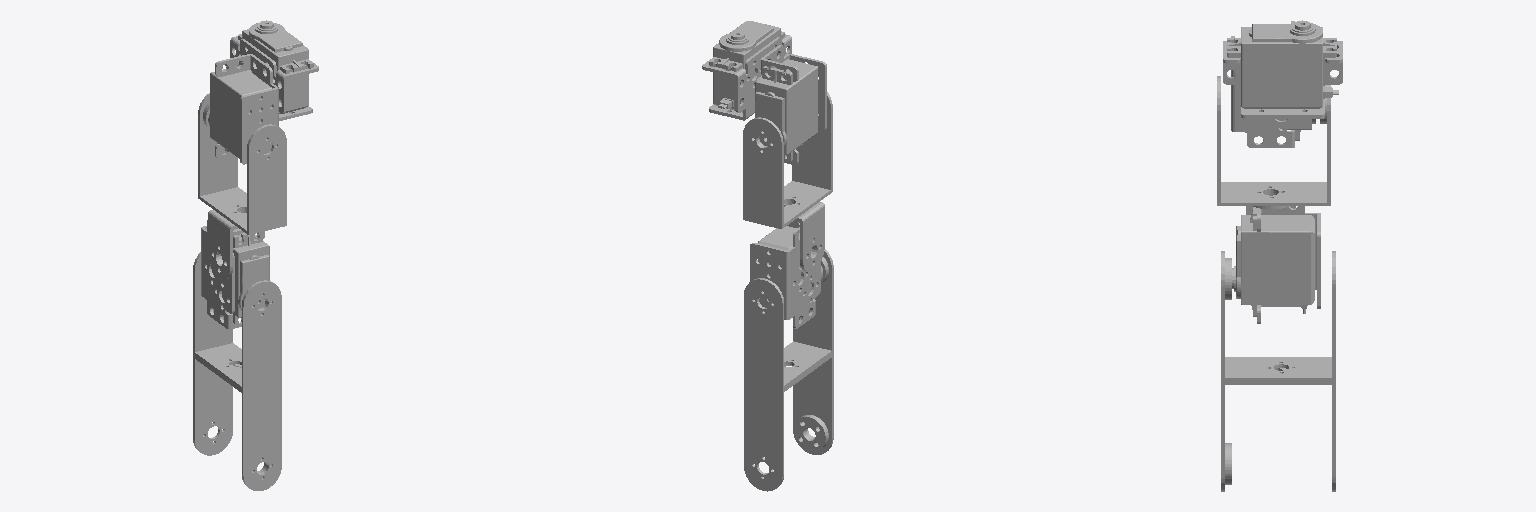
The robot description file, URDF, robot "robot_arm_urdf":
<?xml version="1.0" encoding="utf-8"?>
<!-- This URDF was automatically created by SolidWorks to URDF Exporter! Originally created by [author] ([email redacted])
     Commit Version: 1.6.0-1-g15f4949  Build Version: 1.6.7594.29634
     For more information, please see http://wiki.ros.org/sw_urdf_exporter -->
<robot
  name="robot_arm_urdf">
  <link
    name="Link_1">
    <inertial>
      <origin
        xyz="0.0061516 0.010815 0.033881"
        rpy="0 0 0" />
      <mass
        value="0.19291" />
      <inertia
        ixx="0.00013588"
        ixy="1.7547E-08"
        ixz="-4.2054E-07"
        iyy="5.5834E-05"
        iyz="9.2938E-08"
        izz="0.00013279" />
    </inertial>
    <visual>
      <origin
        xyz="0 0 0"
        rpy="0 0 0" />
      <geometry>
        <mesh
          filename="package://robot_arm_urdf/meshes/Link_1.STL" />
      </geometry>
      <material
        name="">
        <color
          rgba="0.75294 0.75294 0.75294 1" />
      </material>
    </visual>
    <collision>
      <origin
        xyz="0 0 0"
        rpy="0 0 0" />
      <geometry>
        <mesh
          filename="package://robot_arm_urdf/meshes/Link_1.STL" />
      </geometry>
    </collision>
  </link>
  <link
    name="Link_2">
    <inertial>
      <origin
        xyz="-0.010273 -0.0041237 0.072714"
        rpy="0 0 0" />
      <mass
        value="0.069594" />
      <inertia
        ixx="2.3218E-05"
        ixy="8.488E-08"
        ixz="-1.2149E-08"
        iyy="3.3557E-05"
        iyz="-4.236E-07"
        izz="2.5179E-05" />
    </inertial>
    <visual>
      <origin
        xyz="0 0 0"
        rpy="0 0 0" />
      <geometry>
        <mesh
          filename="package://robot_arm_urdf/meshes/Link_2.STL" />
      </geometry>
      <material
        name="">
        <color
          rgba="0.75294 0.75294 0.75294 1" />
      </material>
    </visual>
    <collision>
      <origin
        xyz="0 0 0"
        rpy="0 0 0" />
      <geometry>
        <mesh
          filename="package://robot_arm_urdf/meshes/Link_2.STL" />
      </geometry>
    </collision>
  </link>
  <joint
    name="Joint_1"
    type="revolute">
    <origin
      xyz="0 0 0.018641"
      rpy="0 0 0" />
    <parent
      link="Link_1" />
    <child
      link="Link_2" />
    <axis
      xyz="0 0 1" />
    <limit
      lower="-1.571"
      upper="1.571"
      effort="0"
      velocity="0" />
  </joint>
  <link
    name="Link_3">
    <inertial>
      <origin
        xyz="-2.434E-12 -0.0085203 0.051"
        rpy="0 0 0" />
      <mass
        value="0.047687" />
      <inertia
        ixx="4.656E-05"
        ixy="4.6311E-20"
        ixz="-6.0173E-21"
        iyy="2.1258E-05"
        iyz="-2.1012E-08"
        izz="3.0244E-05" />
    </inertial>
    <visual>
      <origin
        xyz="0 0 0"
        rpy="0 0 0" />
      <geometry>
        <mesh
          filename="package://robot_arm_urdf/meshes/Link_3.STL" />
      </geometry>
      <material
        name="">
        <color
          rgba="0.75294 0.75294 0.75294 1" />
      </material>
    </visual>
    <collision>
      <origin
        xyz="0 0 0"
        rpy="0 0 0" />
      <geometry>
        <mesh
          filename="package://robot_arm_urdf/meshes/Link_3.STL" />
      </geometry>
    </collision>
  </link>
  <joint
    name="Joint_2"
    type="revolute">
    <origin
      xyz="0.0089955 0 0.087399"
      rpy="0 0 0" />
    <parent
      link="Link_2" />
    <child
      link="Link_3" />
    <axis
      xyz="0 -1 0" />
    <limit
      lower="-2.356"
      upper="0.785"
      effort="0"
      velocity="0" />
  </joint>
  <link
    name="Link_4">
    <inertial>
      <origin
        xyz="-0.0011269 -0.0075753 0.030773"
        rpy="0 0 0" />
      <mass
        value="0.076498" />
      <inertia
        ixx="3.9025E-05"
        ixy="-4.236E-07"
        ixz="-3.21E-07"
        iyy="2.2146E-05"
        iyz="-7.4374E-08"
        izz="2.3983E-05" />
    </inertial>
    <visual>
      <origin
        xyz="0 0 0"
        rpy="0 0 0" />
      <geometry>
        <mesh
          filename="package://robot_arm_urdf/meshes/Link_4.STL" />
      </geometry>
      <material
        name="">
        <color
          rgba="0.75294 0.75294 0.75294 1" />
      </material>
    </visual>
    <collision>
      <origin
        xyz="0 0 0"
        rpy="0 0 0" />
      <geometry>
        <mesh
          filename="package://robot_arm_urdf/meshes/Link_4.STL" />
      </geometry>
    </collision>
  </link>
  <joint
    name="Joint_3"
    type="revolute">
    <origin
      xyz="0 0 0.102"
      rpy="0 0 0" />
    <parent
      link="Link_3" />
    <child
      link="Link_4" />
    <axis
      xyz="0 1 0" />
    <limit
      lower="0"
      upper="3.142"
      effort="0"
      velocity="0" />
  </joint>
  <link
    name="Link_5">
    <inertial>
      <origin
        xyz="0.012042 -0.0083606 0.0195"
        rpy="0 0 0" />
      <mass
        value="0.0915" />
      <inertia
        ixx="2.91E-05"
        ixy="-4.2195E-07"
        ixz="4.2195E-07"
        iyy="1.8374E-05"
        iyz="-1.0565E-10"
        izz="1.8374E-05" />
    </inertial>
    <visual>
      <origin
        xyz="0 0 0"
        rpy="0 0 0" />
      <geometry>
        <mesh
          filename="package://robot_arm_urdf/meshes/Link_5.STL" />
      </geometry>
      <material
        name="">
        <color
          rgba="0.75294 0.75294 0.75294 1" />
      </material>
    </visual>
    <collision>
      <origin
        xyz="0 0 0"
        rpy="0 0 0" />
      <geometry>
        <mesh
          filename="package://robot_arm_urdf/meshes/Link_5.STL" />
      </geometry>
    </collision>
  </link>
  <joint
    name="Joint_4"
    type="revolute">
    <origin
      xyz="0.0019578 0 0.097504"
      rpy="0 0 0" />
    <parent
      link="Link_4" />
    <child
      link="Link_5" />
    <axis
      xyz="0 1 0" />
    <limit
      lower="-1.571"
      upper="1.571"
      effort="0"
      velocity="0" />
  </joint>
  <link
    name="gripper_arm">
    <inertial>
      <origin
        xyz="0.013777 -0.014292 0.03621"
        rpy="0 0 0" />
      <mass
        value="0.048521" />
      <inertia
        ixx="1.0419E-05"
        ixy="1.4078E-07"
        ixz="4.7081E-10"
        iyy="8.2008E-06"
        iyz="-1.3455E-08"
        izz="1.0309E-05" />
    </inertial>
    <visual>
      <origin
        xyz="0 0 0"
        rpy="0 0 0" />
      <geometry>
        <mesh
          filename="package://robot_arm_urdf/meshes/gripper_arm.STL" />
      </geometry>
      <material
        name="">
        <color
          rgba="0.75294 0.75294 0.75294 1" />
      </material>
    </visual>
    <collision>
      <origin
        xyz="0 0 0"
        rpy="0 0 0" />
      <geometry>
        <mesh
          filename="package://robot_arm_urdf/meshes/gripper_arm.STL" />
      </geometry>
    </collision>
  </link>
  <joint
    name="Joint_5"
    type="revolute">
    <origin
      xyz="0.024084 0.0044105 0.053098"
      rpy="0 0 0" />
    <parent
      link="Link_5" />
    <child
      link="gripper_arm" />
    <axis
      xyz="0 0 1" />
    <limit
      lower="0"
      upper="3.142"
      effort="0"
      velocity="0" />
  </joint>
</robot>

--- What the picture shows (computed from the rendered views, not written in the file) ---
The picture shows the robot from 3 angles, left to right: view 1: azimuth 30°, elevation 25°; view 2: azimuth 150°, elevation 25°; view 3: azimuth 270°, elevation 25°; orthographic projection.
Model robot_arm_urdf with 6 links and 5 joints (5 revolute), rooted at Link_1, posed all joints at 0.
Links seen in each view (by area): view 1: Link_3, Link_4, Link_5; view 2: Link_3, Link_4, Link_5; view 3: Link_4, Link_5, Link_3.
Link boxes in pixels (x1=…): Link_3: x1=193, y1=252, x2=281, y2=490; Link_4: x1=198, y1=93, x2=286, y2=328; Link_5: x1=208, y1=20, x2=318, y2=164; Link_3: x1=744, y1=249, x2=833, y2=491; Link_4: x1=743, y1=92, x2=832, y2=328; Link_5: x1=702, y1=21, x2=826, y2=164; Link_4: x1=1217, y1=76, x2=1330, y2=323; Link_5: x1=1223, y1=20, x2=1342, y2=147; Link_3: x1=1221, y1=251, x2=1335, y2=491.
Bounding box of the posed robot: 0.053 × 0.0631 × 0.2685 m (x, y, z).
3 mesh visuals loaded from 6 distinct referenced files (3 binary STL); not drawn: 3 (reference not matched to a file when rendering).